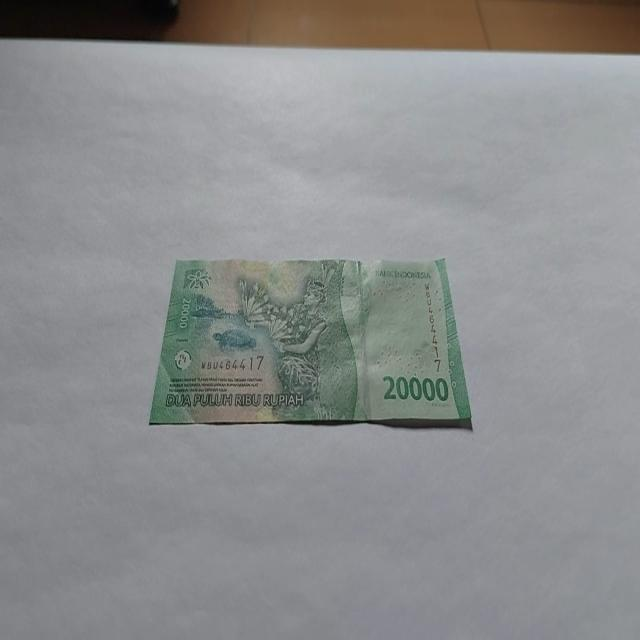dua puluh ribu rupiah: (147, 253, 473, 431)
